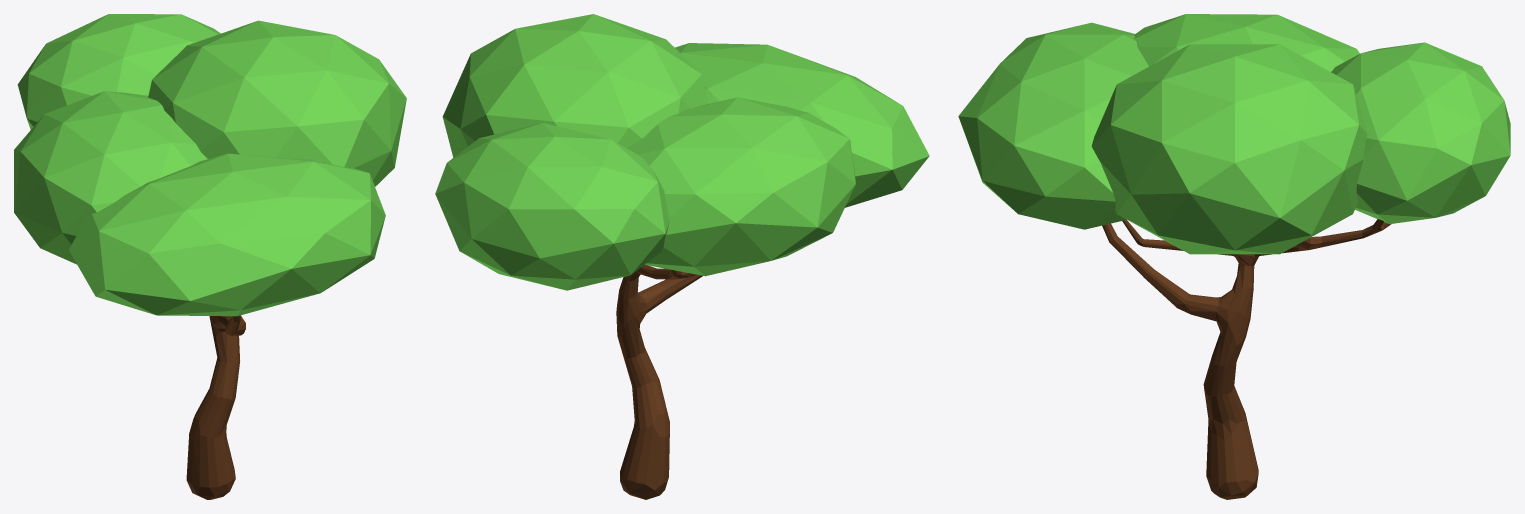
Rendered from Tree.fbx.
The picture shows the model from 3 angles, left to right: view 1: azimuth 30°, elevation 25°; view 2: azimuth 150°, elevation 25°; view 3: azimuth 270°, elevation 25°; orthographic projection. The views are drawn at different scales.
Visible parts, largest first — view 1: Icosphere, Cube; view 2: Icosphere, Cube; view 3: Icosphere, Cube.
Boxes of the visible parts, x1,y1,x2,y2 form: Icosphere: (14, 14, 406, 316); Cube: (186, 315, 245, 499); Icosphere: (435, 14, 929, 290); Cube: (616, 264, 702, 499); Icosphere: (958, 14, 1510, 254); Cube: (1102, 219, 1391, 499).
Size of the model in its own units: 723 by 828 by 875.
